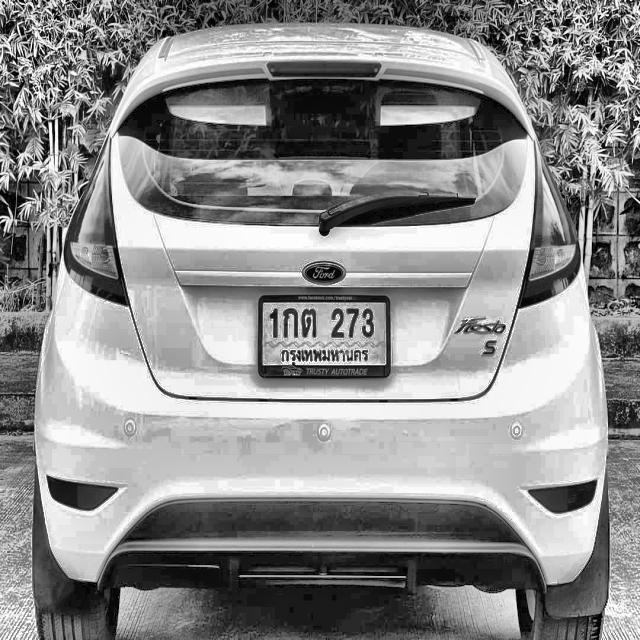license-plate: (257, 291, 393, 380)
